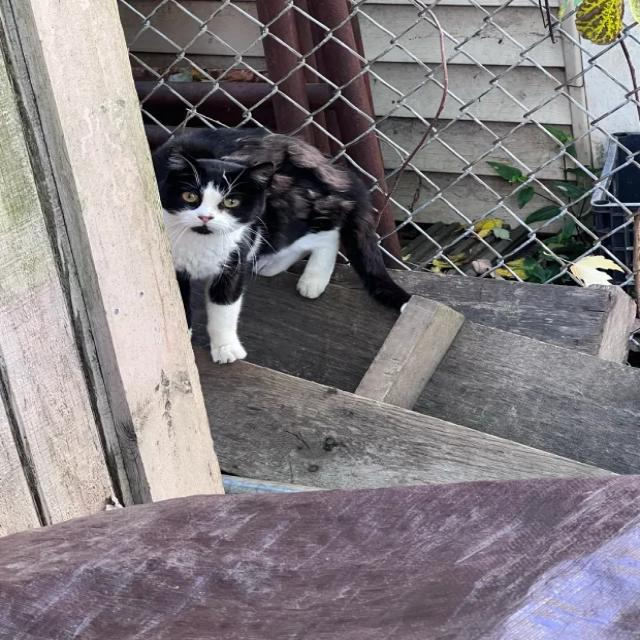cat: (153, 129, 410, 362)
